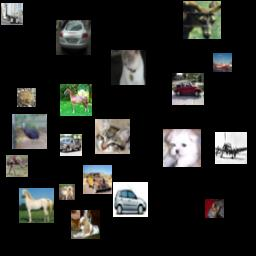airplane: (215, 132, 247, 164)
automobile: (113, 182, 148, 217), (56, 20, 91, 55), (172, 73, 204, 105), (83, 165, 112, 194)
bird: (12, 114, 47, 149), (6, 155, 28, 177)
cat: (95, 119, 130, 154), (111, 50, 146, 85), (205, 199, 224, 218)
deer: (183, 1, 221, 39)
dog: (163, 129, 201, 167), (71, 210, 100, 239), (59, 184, 75, 200)
frog: (17, 88, 36, 107)
ship: (213, 53, 232, 72)
truck: (60, 134, 82, 156), (1, 3, 23, 25)
